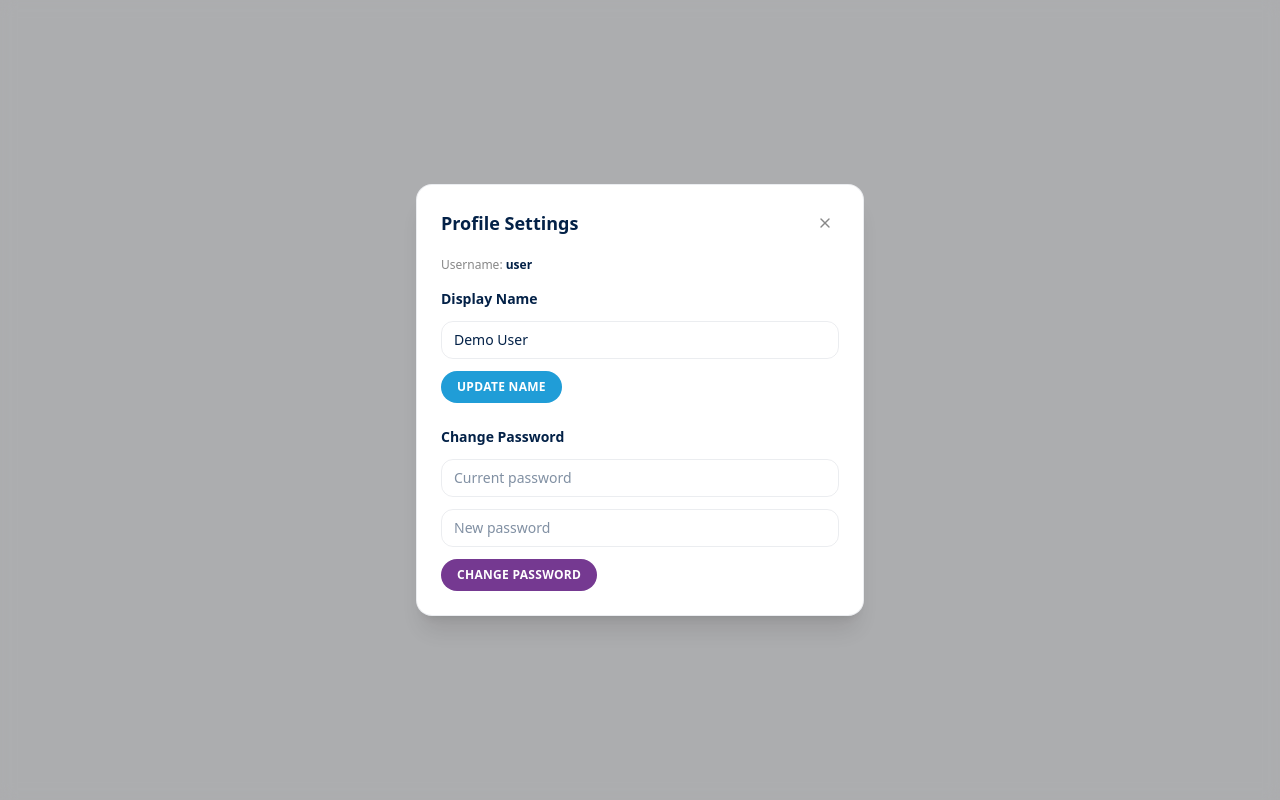
Test case: ProfileSettings › shows error on wrong current password
In the password field labelled "Current password": (640, 478) x1=441 y1=459 x2=839 y2=497, type "wrongpass"
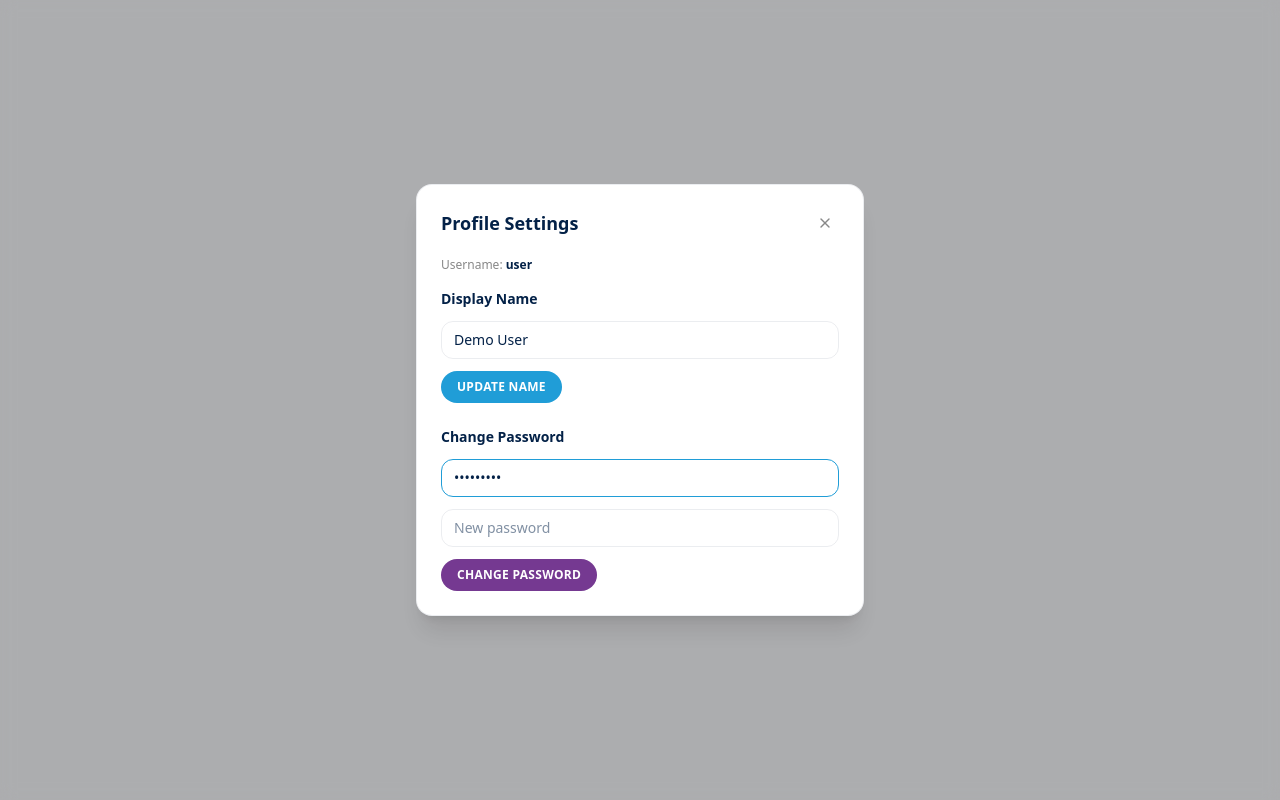
In the password field labelled "New password": (640, 528) x1=441 y1=509 x2=839 y2=547, type "newpass1"
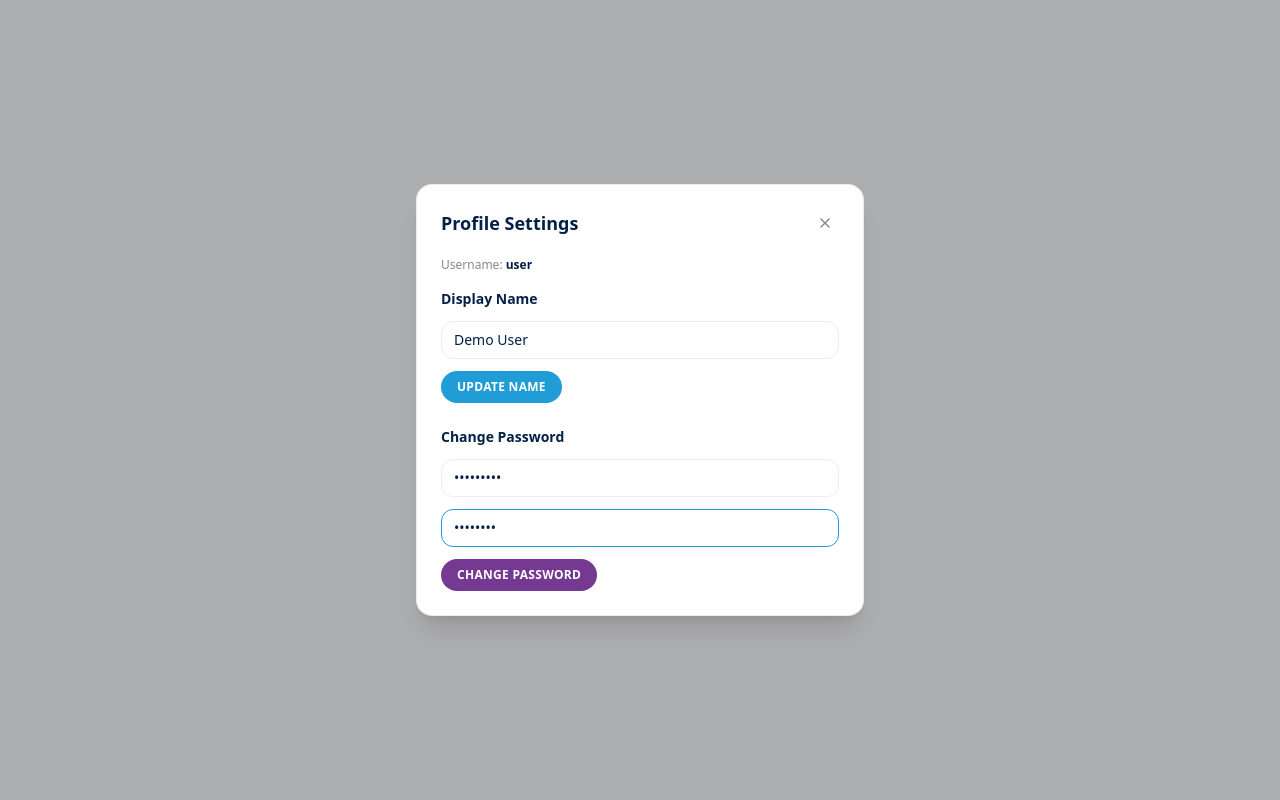
Click the button "Change Password": (519, 575) x1=441 y1=559 x2=597 y2=591
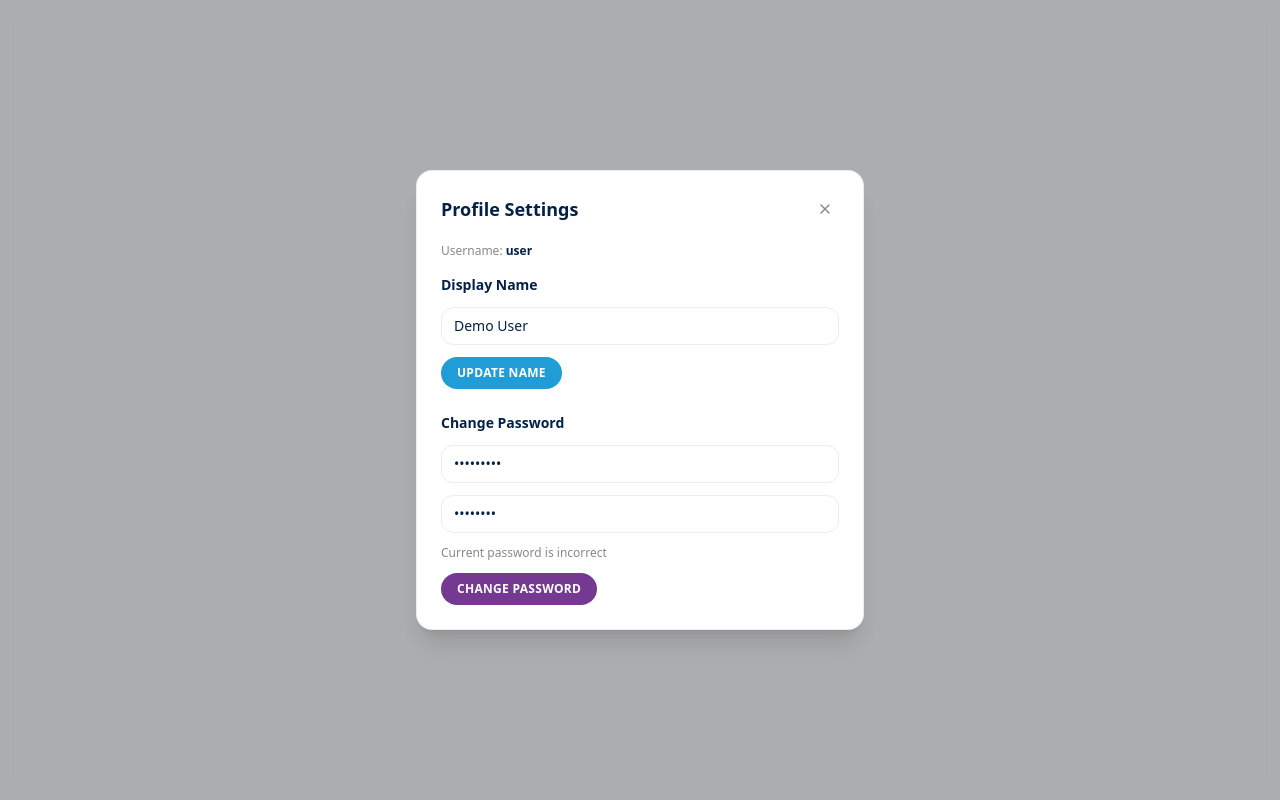
Expected: the text "Current password is incorrect" is shown, x1=441 y1=544 x2=607 y2=561
